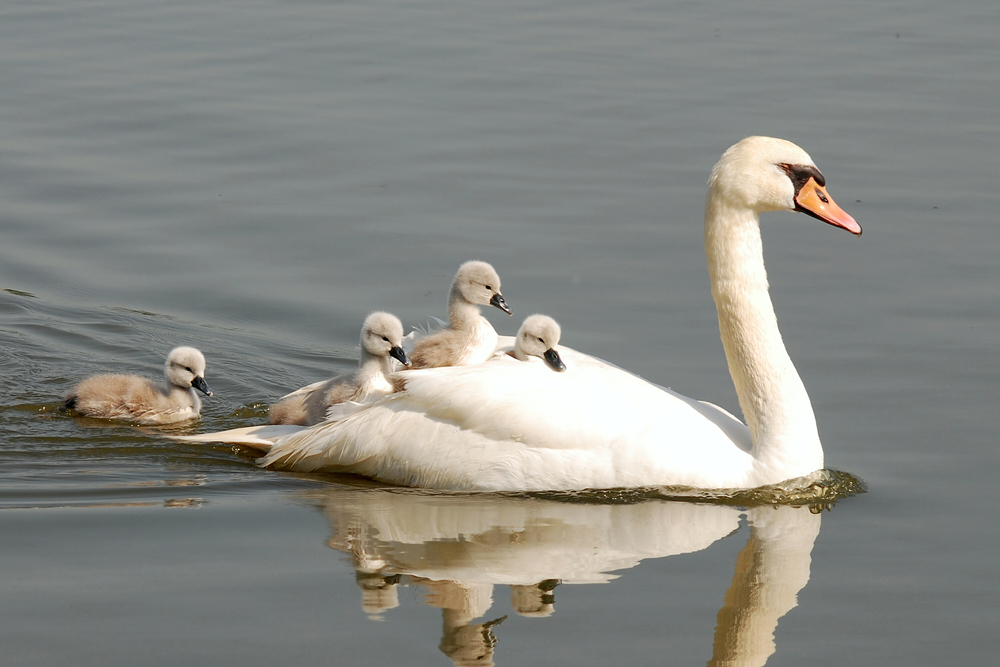bird: (131, 108, 917, 551), (263, 299, 419, 442), (40, 332, 219, 440), (407, 242, 511, 386), (488, 295, 590, 388)
